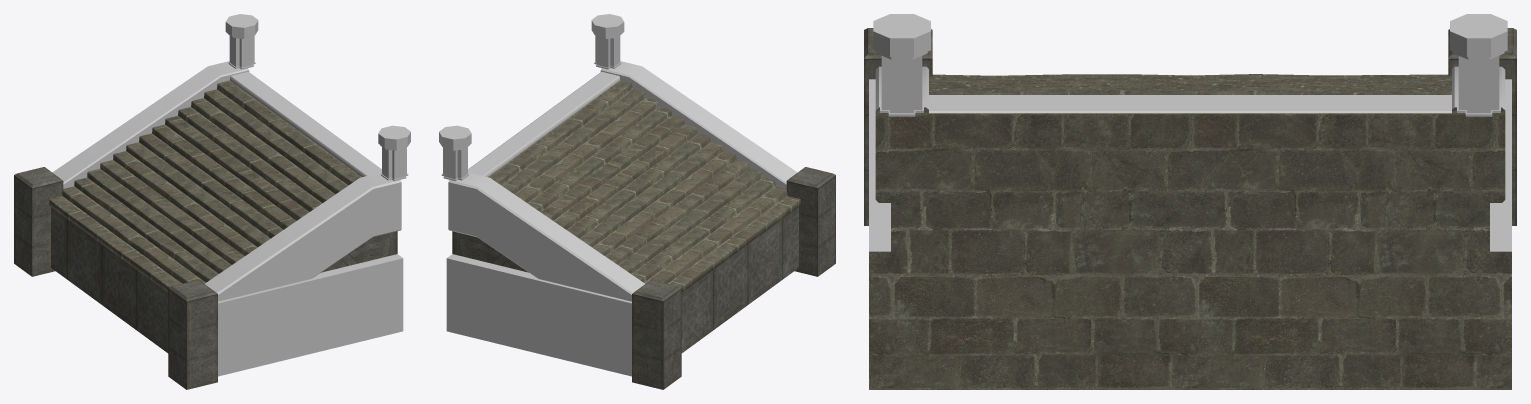
Rendered from bridge_stair_01.fbx.
The picture shows the model from 3 angles, left to right: view 1: azimuth 30°, elevation 25°; view 2: azimuth 150°, elevation 25°; view 3: azimuth 270°, elevation 25°; orthographic projection. The views are drawn at different scales.
Parts seen in each view (by area): view 1: bridge_stair_01; view 2: bridge_stair_01; view 3: bridge_stair_01.
Boxes of the visible parts, x1,y1,x2,y2 form: bridge_stair_01: [14, 14, 410, 389]; bridge_stair_01: [439, 14, 835, 389]; bridge_stair_01: [864, 14, 1516, 389].
Bounding box in the file's own units: 611 × 497 × 789.
